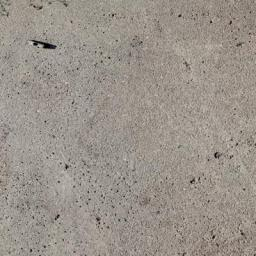FOD: (25, 37, 59, 53)
